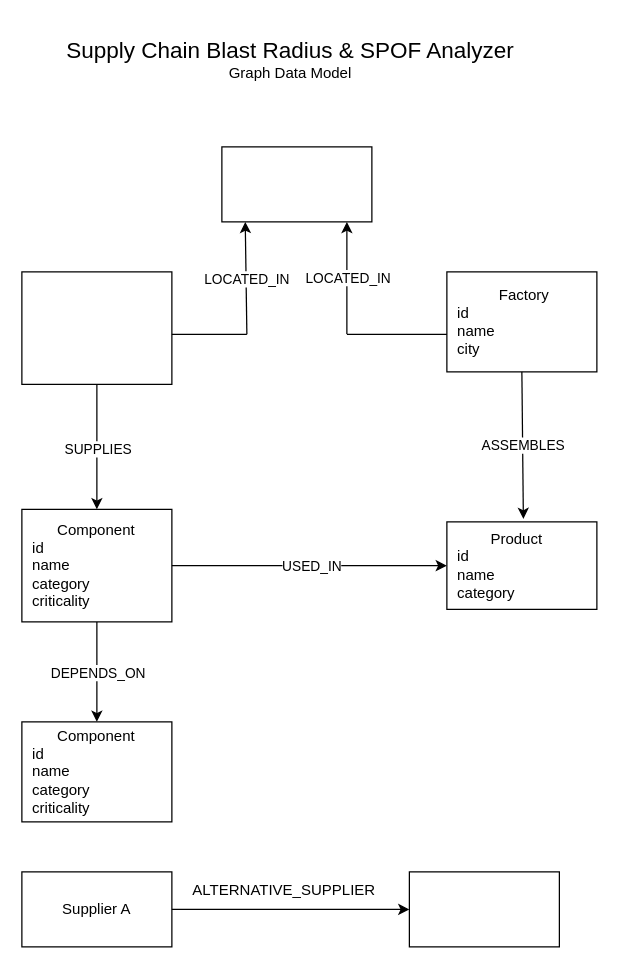
The diagram is 619 pixels wide and 969 high, and some of its shapes have lost their labels. Here are the shapes that lost their labels. From the top down, the centre of each, then its label:
the point at 296,184: Country code name
the point at 96,327: Supplier id name tier risklevel
the point at 483,909: Supplier B
